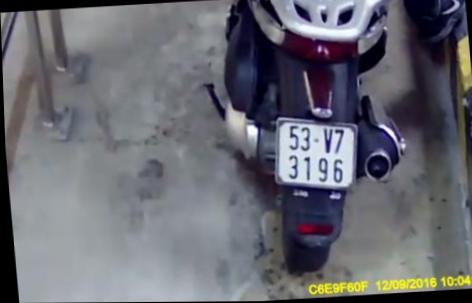LP: (271, 112, 361, 194)
